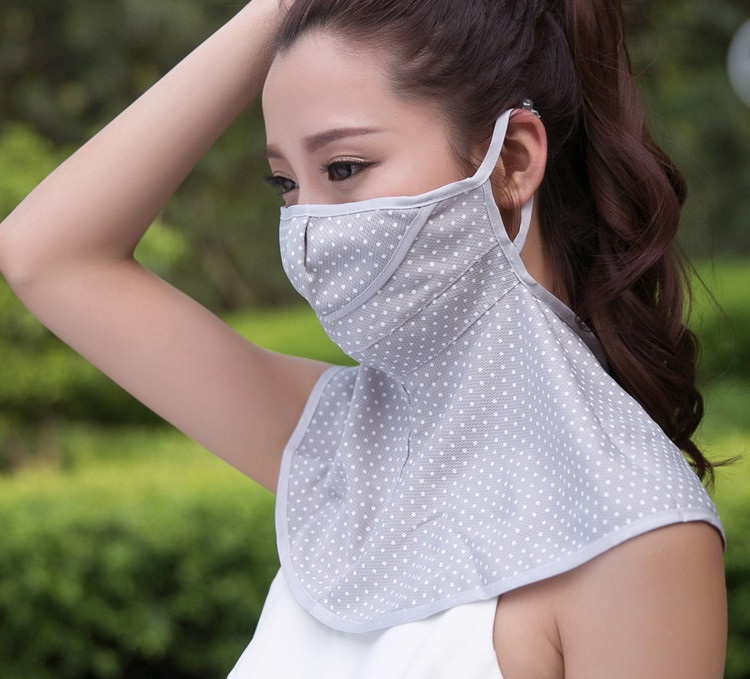face_mask: (271, 26, 489, 359)
